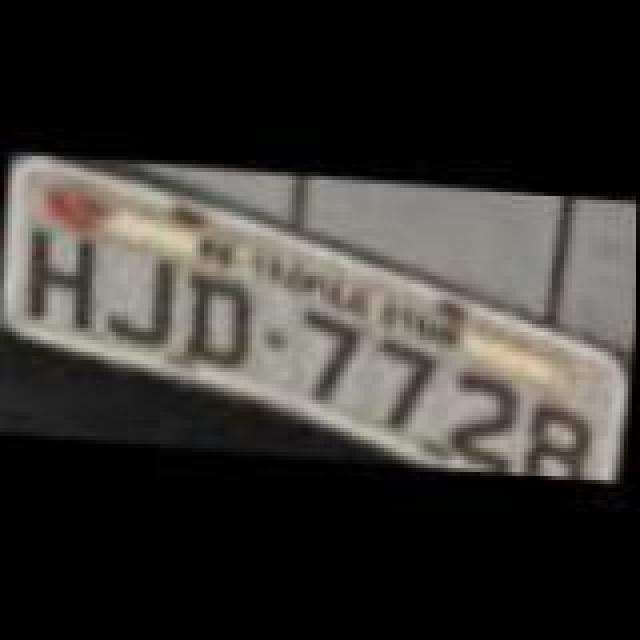2: (450, 374, 530, 478)
7: (370, 336, 442, 440), (296, 308, 368, 408)
8: (526, 398, 594, 482)
D: (182, 276, 258, 372)
H: (20, 222, 100, 330)
J: (108, 256, 180, 356)
